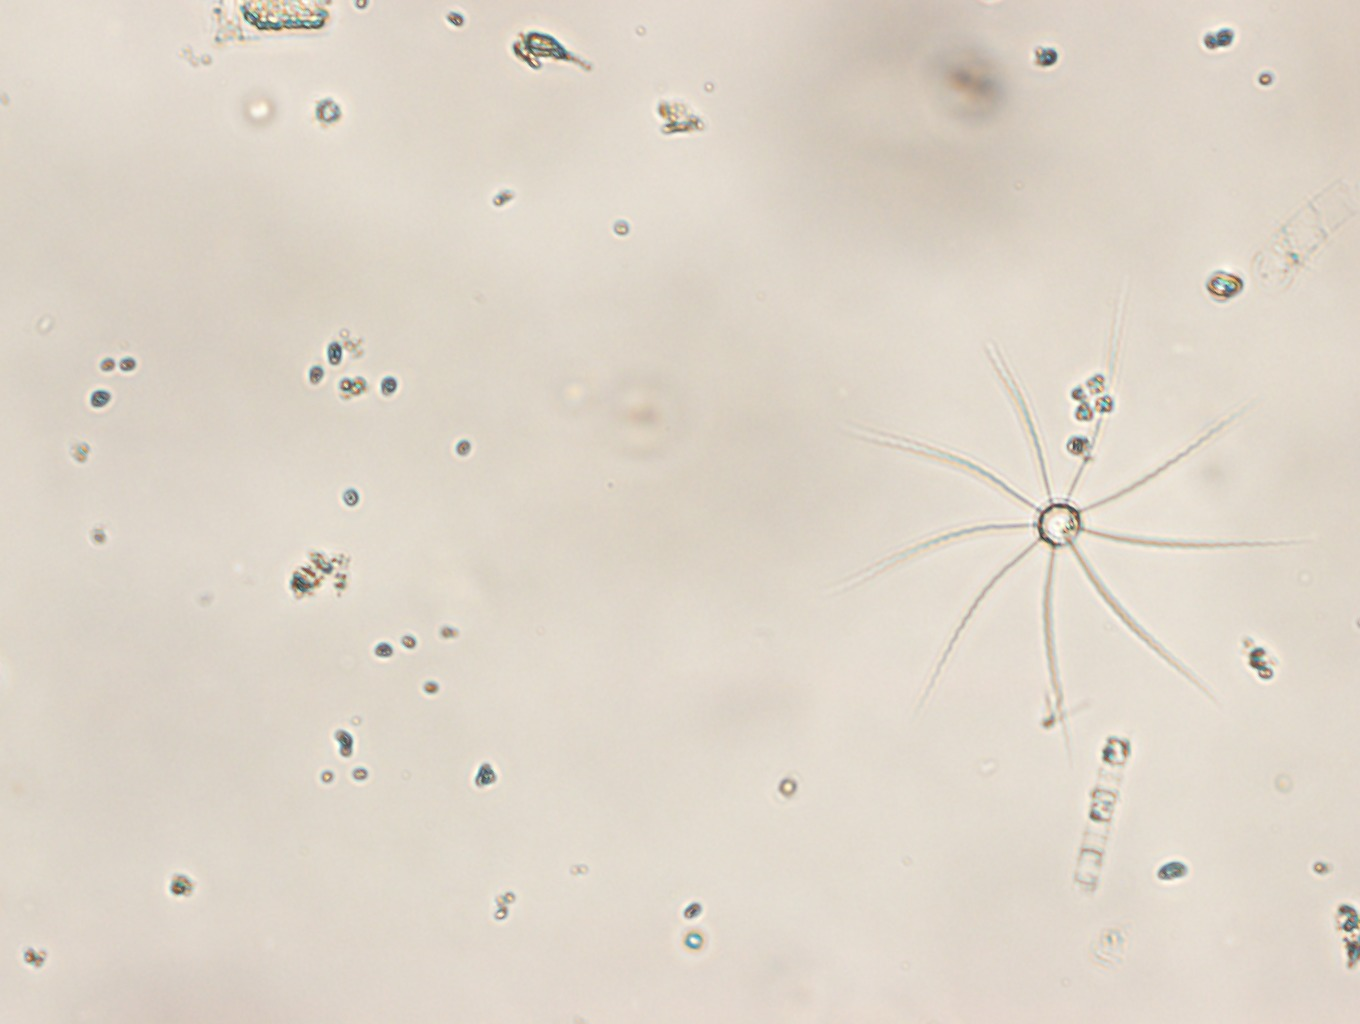bacteriastrum: (829, 305, 1302, 731)
skeletonema: (1078, 735, 1129, 896)
